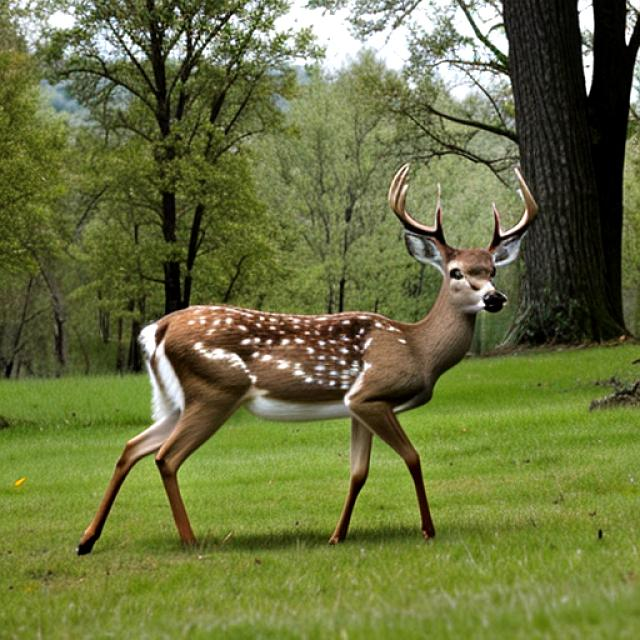deer: (90, 130, 574, 526)
